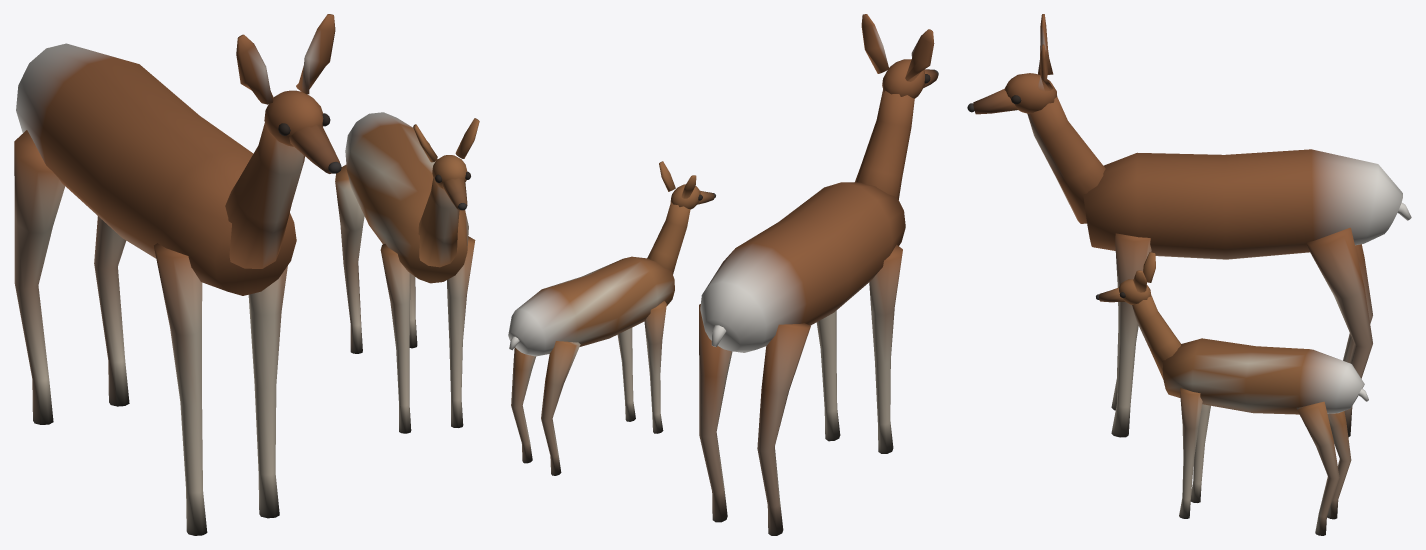
Rendered from deer.glb.
3 views of the same model, side by side, from view 1: azimuth 30°, elevation 25°; view 2: azimuth 150°, elevation 25°; view 3: azimuth 270°, elevation 25° (orthographic). The views are drawn at different scales.
Visible parts, largest first — view 1: Deer_Doe, Deer_Fawn, Doe_NeckHead, Fawn_NeckHead, Doe_Ear_L, Doe_Ear_R; view 2: Deer_Doe, Deer_Fawn, Doe_NeckHead, Fawn_NeckHead, Doe_Ear_R, Doe_Ear_L; view 3: Deer_Doe, Deer_Fawn, Doe_NeckHead, Fawn_NeckHead.
Boxes of the visible parts, <box> form: Deer_Doe: <box>14,43,296,535</box>; Deer_Fawn: <box>335,112,475,433</box>; Doe_NeckHead: <box>225,90,341,268</box>; Fawn_NeckHead: <box>413,118,479,267</box>; Doe_Ear_L: <box>236,34,273,104</box>; Doe_Ear_R: <box>296,14,335,94</box>; Deer_Doe: <box>699,182,905,535</box>; Deer_Fawn: <box>508,256,674,475</box>; Doe_NeckHead: <box>855,59,938,199</box>; Fawn_NeckHead: <box>647,161,715,274</box>; Doe_Ear_R: <box>861,14,889,73</box>; Doe_Ear_L: <box>905,29,934,81</box>; Deer_Doe: <box>1083,149,1402,437</box>; Deer_Fawn: <box>1162,338,1364,535</box>; Doe_NeckHead: <box>967,73,1105,223</box>; Fawn_NeckHead: <box>1096,252,1180,378</box>.
Size of the model in its own units: 0.9405 by 1.19 by 1.22.
